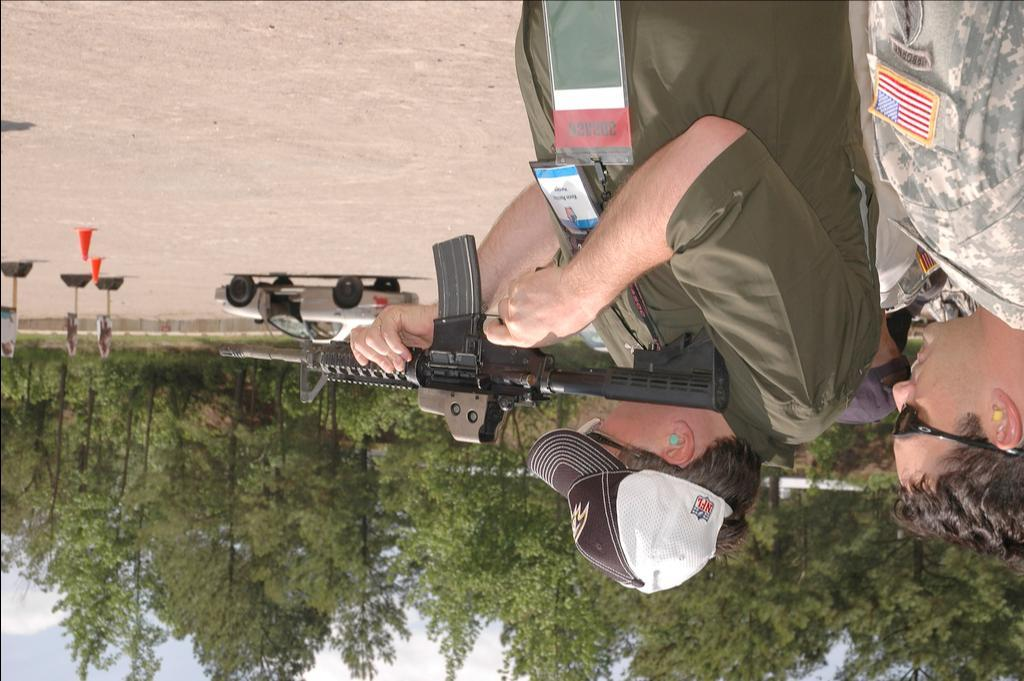gun: (219, 237, 738, 449)
